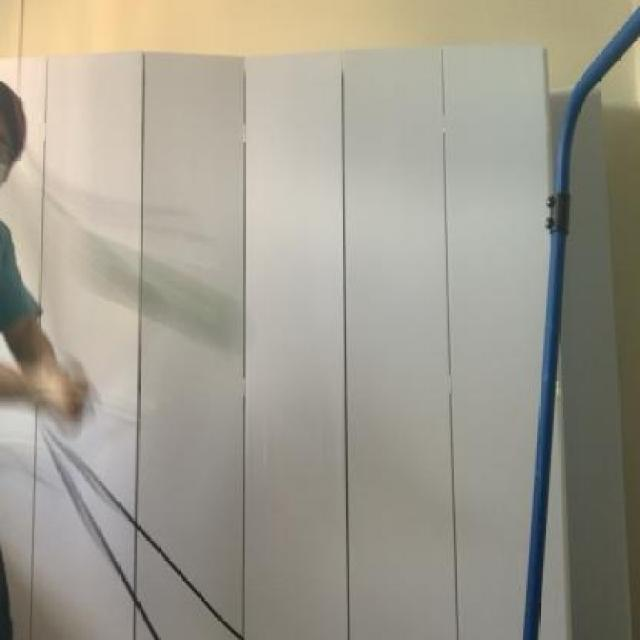baseball: (59, 234, 259, 360)
